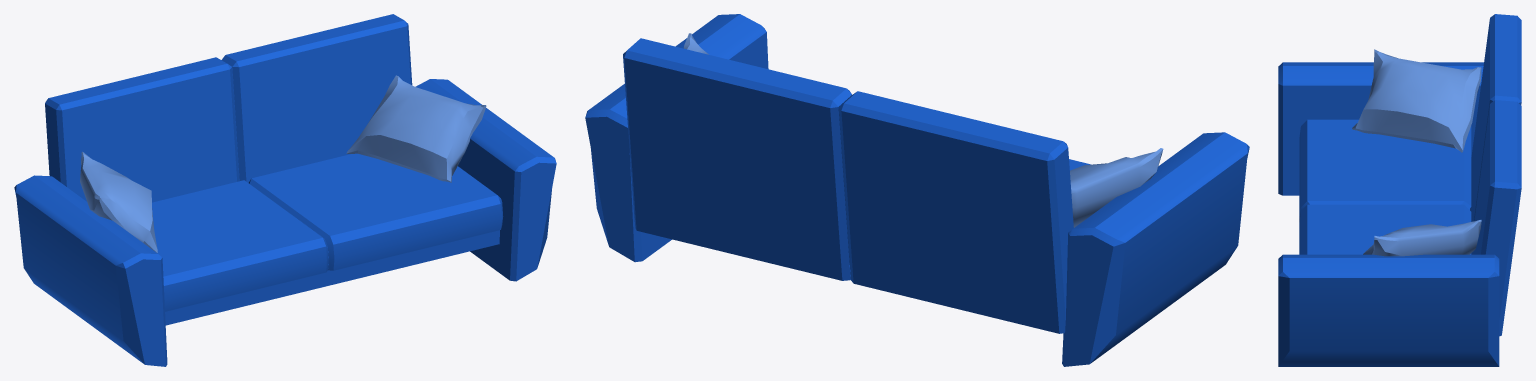
Rendered from Sofa01.fbx.
3 views of the same model, side by side, from view 1: azimuth 30°, elevation 25°; view 2: azimuth 150°, elevation 25°; view 3: azimuth 270°, elevation 25° (orthographic). The views are drawn at different scales.
Visible parts, largest first — view 1: Sofa01; view 2: Sofa01; view 3: Sofa01.
Part boxes in pixels (x1,y1,x2,y2): Sofa01: (14,14,556,366); Sofa01: (585,14,1249,366); Sofa01: (1278,14,1521,366).
Bounding box in the file's own units: 138 × 54.53 × 66.44.
